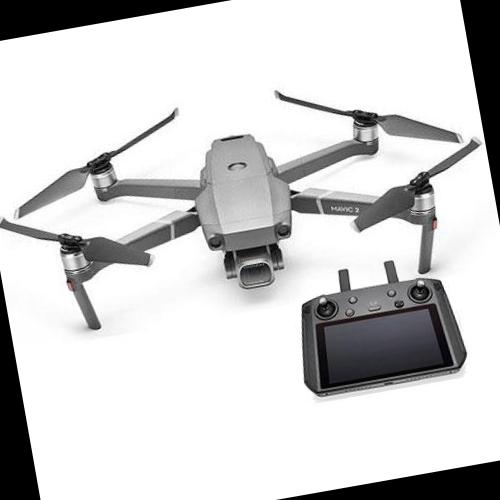drone: (1, 44, 489, 359)
